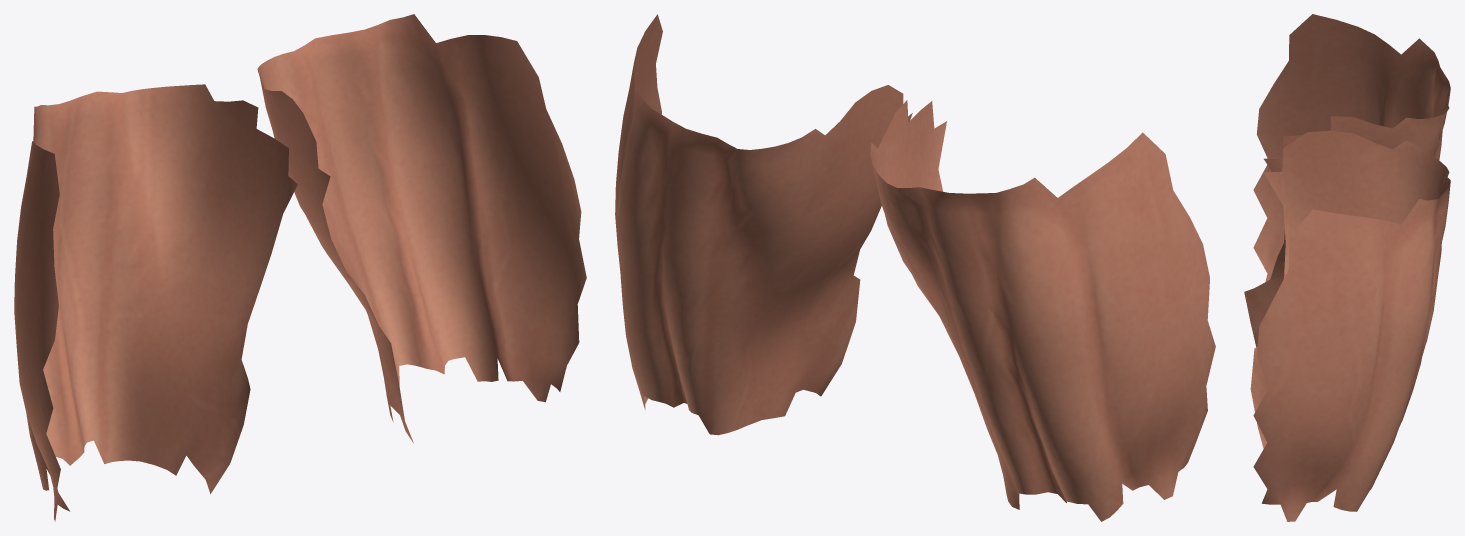
File: hamstrings.glb
3 renders of one model, left to right at view 1: azimuth 30°, elevation 25°; view 2: azimuth 150°, elevation 25°; view 3: azimuth 270°, elevation 25°, orthographic. The views are drawn at different scales.
Parts seen in each view (by area): view 1: hamstrings; view 2: hamstrings; view 3: hamstrings.
Boxes of the visible parts, x1,y1,x2,y2 form: hamstrings: [14, 14, 586, 521]; hamstrings: [615, 14, 1215, 521]; hamstrings: [1244, 14, 1450, 521].
Bounding box in the file's own units: 0.0499 × 0.0316 × 0.0192.
Materials: 1 (1 with a texture image).
